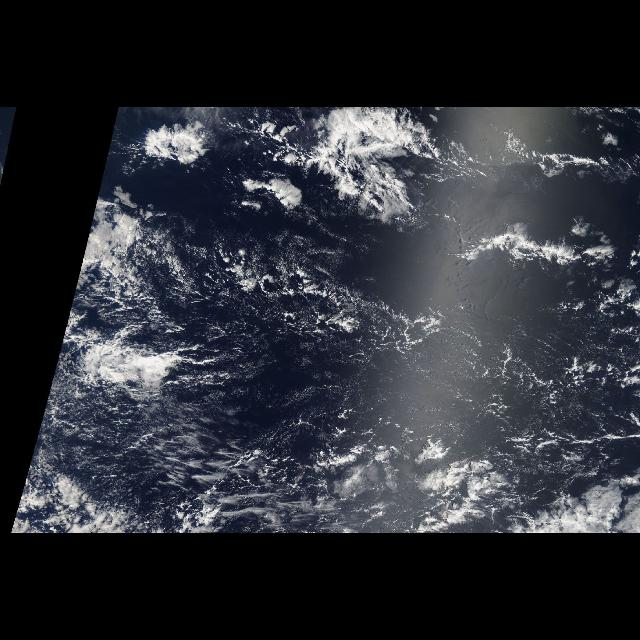Fish: (228, 110, 630, 300)
Gravel: (189, 237, 635, 421)
Sugar: (189, 227, 467, 417)
